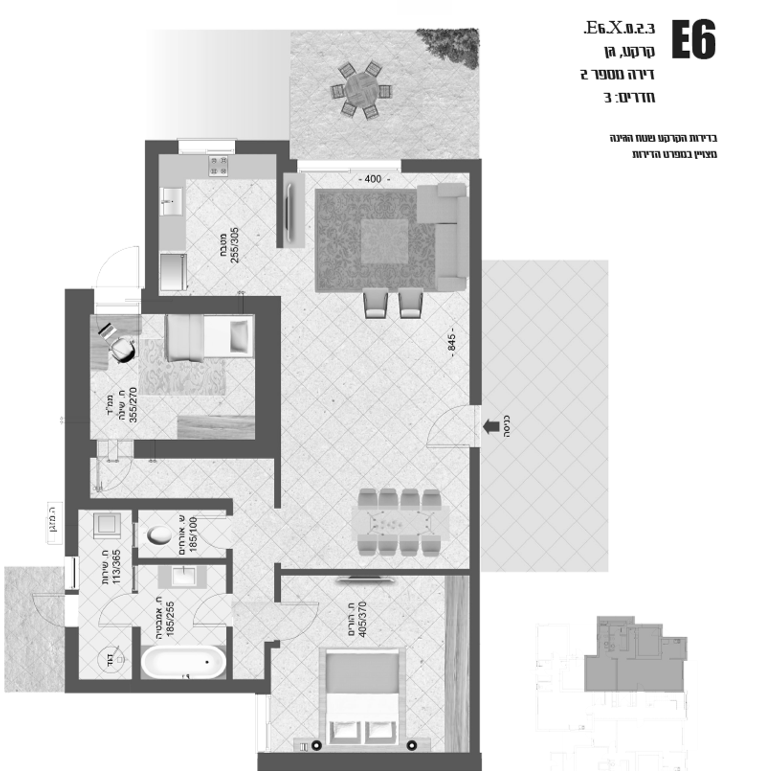door: (424, 399, 483, 452), (259, 600, 323, 647), (27, 589, 74, 631), (96, 589, 140, 629), (191, 592, 236, 629)
wall: (59, 282, 101, 557), (245, 286, 286, 471), (466, 444, 486, 745), (251, 749, 492, 771), (141, 136, 165, 316), (396, 154, 489, 181)
